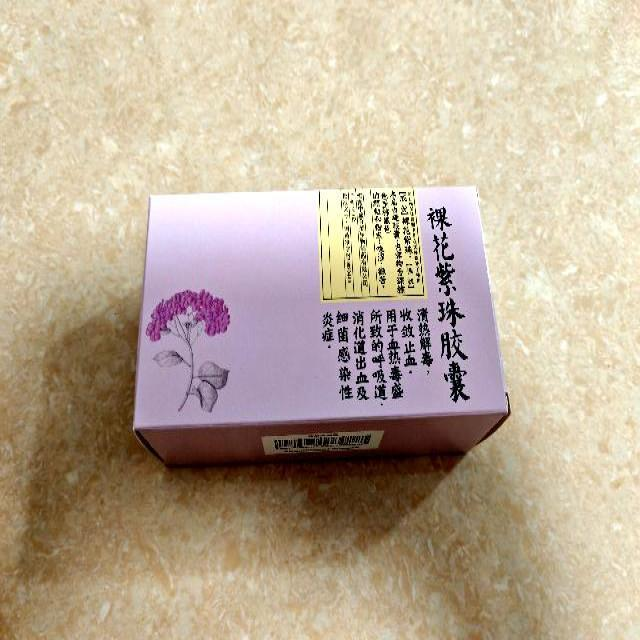box: (131, 186, 511, 467)
